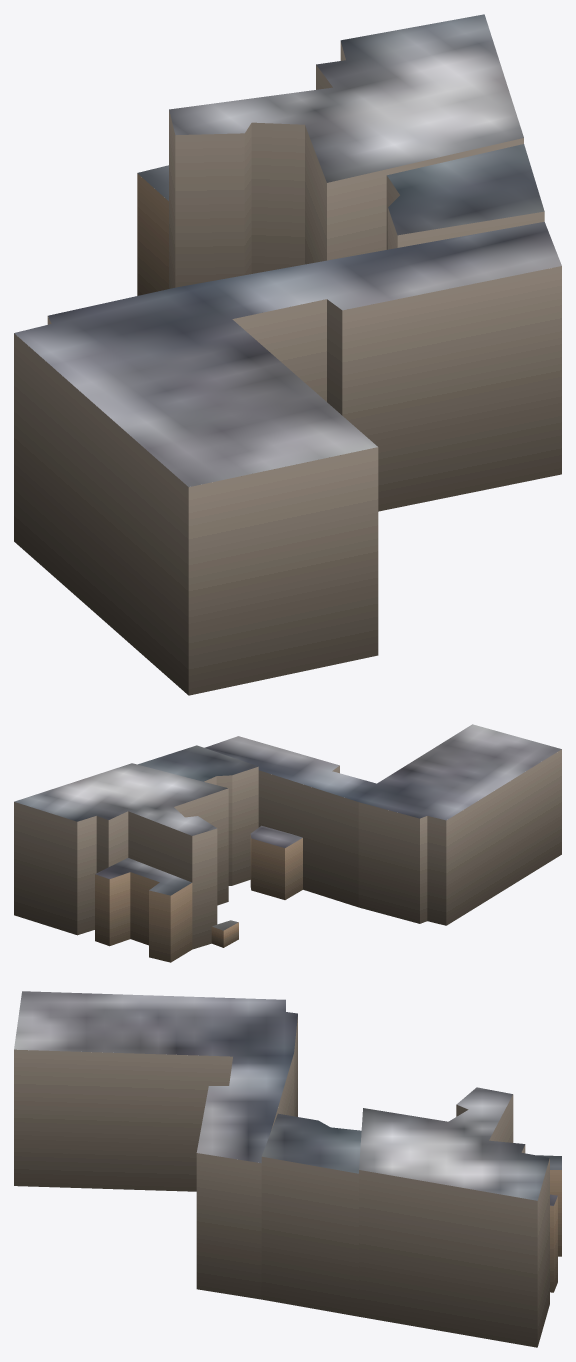
3 views of the same model, one above another, from view 1: azimuth 30°, elevation 25°; view 2: azimuth 150°, elevation 25°; view 3: azimuth 270°, elevation 25° (orthographic). The views are drawn at different scales.
Size of the model in its own units: 51.13 by 15.9 by 53.76.
Materials: 2 (2 with a texture image).
